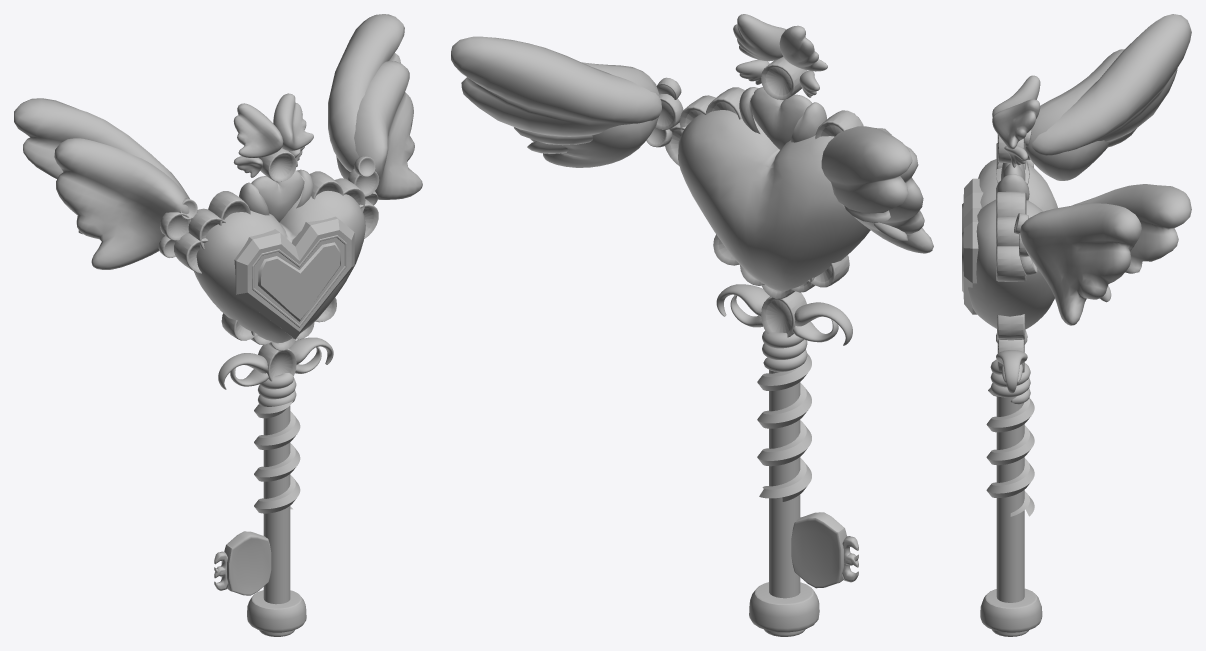
The model's file is Key02.glb.
The picture shows the model from 3 angles, left to right: view 1: azimuth 30°, elevation 25°; view 2: azimuth 150°, elevation 25°; view 3: azimuth 270°, elevation 25°; orthographic projection. The views are drawn at different scales.
Visible parts, largest first — view 1: polySurface64 (×2), polySurface76 (×2), polySurface7, polySurface20, key5:old_key4_round_shapes:pCylinder4, polySurface12, pHelix1, key5:old_key4_round_shapes:pCube36, polySurface70, key5:old_key4_round_shapes:old_key3_1:pCylinder4, polySurface71, polySurface65 (+10 smaller); view 2: polySurface76 (×2), polySurface7, polySurface64 (×2), key5:old_key4_round_shapes:pCylinder4, pHelix1, key5:old_key4_round_shapes:pCube36, key5:old_key4_round_shapes:old_key3_1:pCylinder4, polySurface65, polySurface71, key5:old_key4_round_shapes:old_key3_1:pHelix1, pCylinder8 (×2), polySurface70 (+6 smaller); view 3: polySurface76 (×2), polySurface64 (×2), polySurface7, key5:old_key4_round_shapes:pCylinder4, pHelix1, key5:old_key4_round_shapes:old_key3_1:pCylinder4, polySurface20, pCylinder10 (×2), polySurface71, key5:old_key4_round_shapes:old_key3_1:pHelix1, key5:old_key4_round_shapes:polySurface14, pCylinder8 (+4 smaller).
Boxes of the visible parts, x1,y1,x2,y2 form: polySurface64 (×2): (54,61,422,269); polySurface76 (×2): (14,14,404,234); polySurface7: (194,190,365,343); polySurface20: (234,216,354,339); key5:old_key4_round_shapes:pCylinder4: (263,406,290,604); polySurface12: (261,245,340,319); pHelix1: (254,401,300,513); key5:old_key4_round_shapes:pCube36: (224,531,271,595); polySurface70: (233,103,283,157); key5:old_key4_round_shapes:old_key3_1:pCylinder4: (247,590,306,632); polySurface71: (273,93,313,151); polySurface65: (251,170,304,222); polySurface76 (×2): (451,36,912,240); polySurface7: (678,110,870,291); polySurface64 (×2): (530,62,933,253); key5:old_key4_round_shapes:pCylinder4: (769,370,800,598); pHelix1: (757,354,811,501); key5:old_key4_round_shapes:pCube36: (791,512,847,588); key5:old_key4_round_shapes:old_key3_1:pCylinder4: (749,582,819,632); polySurface65: (750,87,812,149); polySurface71: (733,14,785,61); key5:old_key4_round_shapes:old_key3_1:pHelix1: (762,330,807,371); pCylinder8 (×2): (706,87,863,138); polySurface70: (779,25,827,71); polySurface76 (×2): (1032,14,1191,302); polySurface64 (×2): (1020,49,1141,325); polySurface7: (968,159,1057,329); key5:old_key4_round_shapes:pCylinder4: (996,396,1024,602); pHelix1: (986,388,1034,516); key5:old_key4_round_shapes:old_key3_1:pCylinder4: (980,588,1042,632); polySurface20: (962,178,983,314); pCylinder10 (×2): (996,246,1026,339); polySurface71: (992,99,1040,149); key5:old_key4_round_shapes:old_key3_1:pHelix1: (990,359,1030,404); key5:old_key4_round_shapes:polySurface14: (996,350,1027,393); pCylinder8: (996,191,1026,217).
Size of the model in its own units: 11.58 by 14.92 by 5.74.
Materials: 1 (1 with a texture image).
